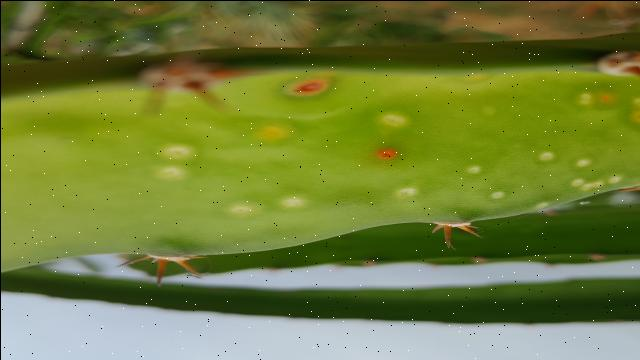stemcanker: (278, 75, 337, 105), (374, 145, 407, 166)
